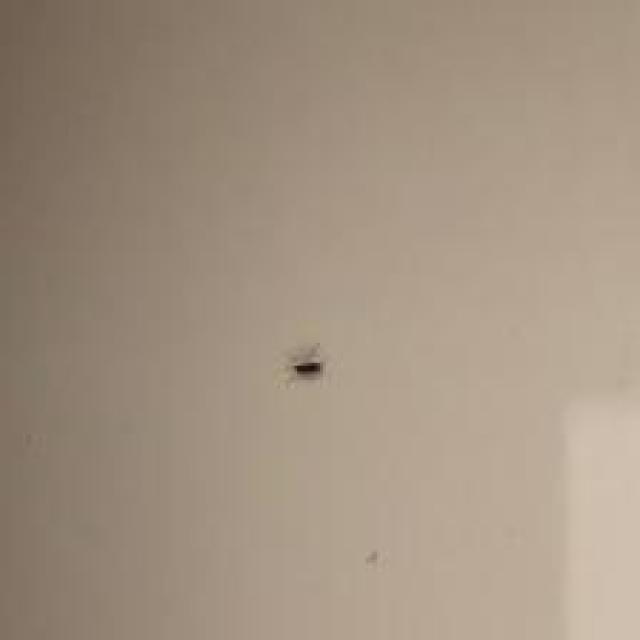Culex: (290, 341, 324, 376)
